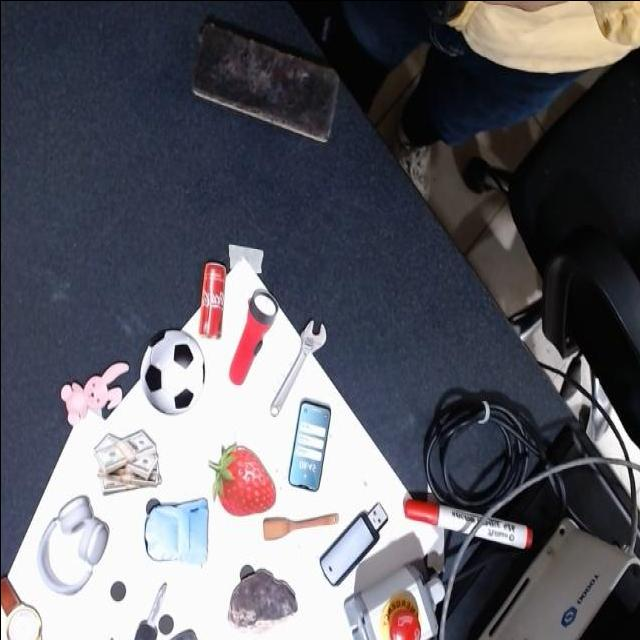Other Objects: (256, 311, 330, 421), (313, 493, 392, 593), (214, 281, 282, 390), (35, 496, 108, 596), (268, 319, 325, 417), (140, 330, 203, 415), (226, 568, 296, 635), (92, 429, 161, 496), (59, 361, 128, 425), (144, 498, 207, 563), (286, 400, 330, 492), (260, 499, 337, 543), (0, 573, 41, 640), (197, 261, 225, 340)
